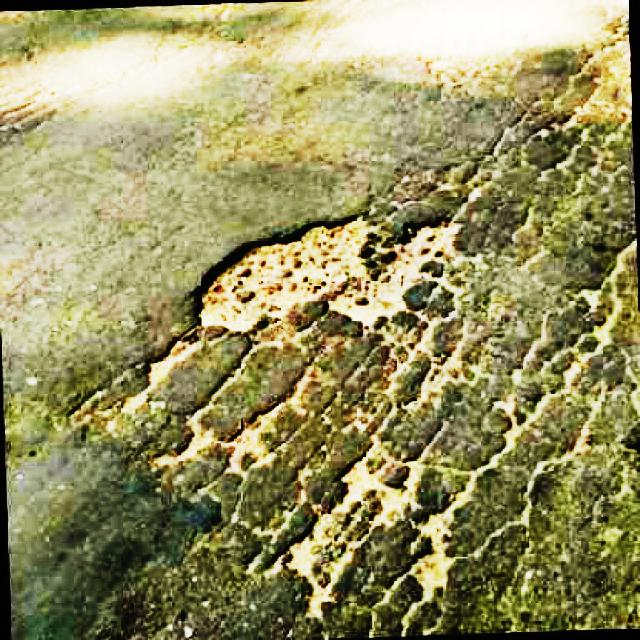pothole: (188, 205, 469, 340), (275, 448, 457, 615)
